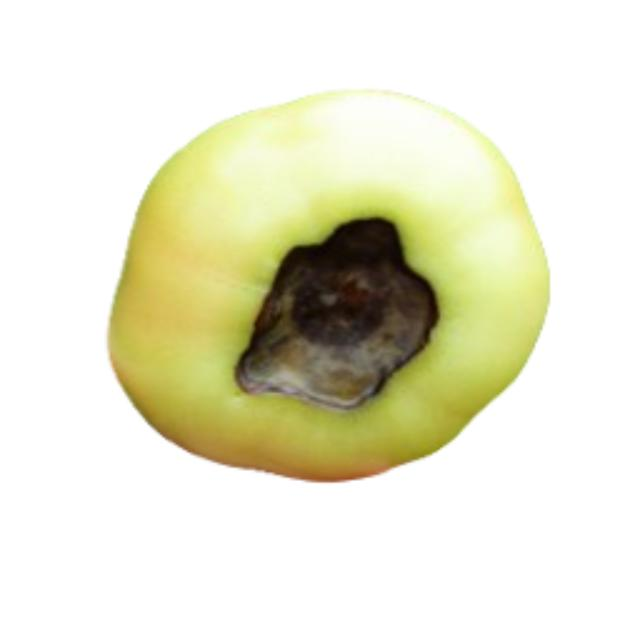defect: (104, 76, 560, 498)
